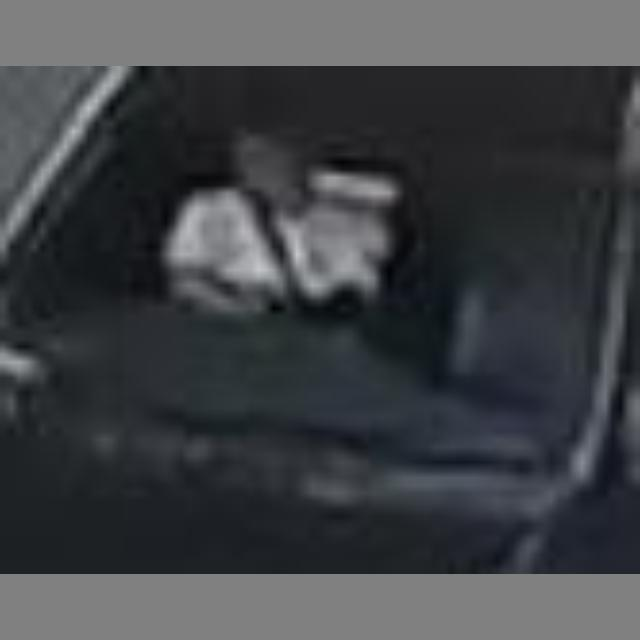pakai: (139, 120, 409, 367)
